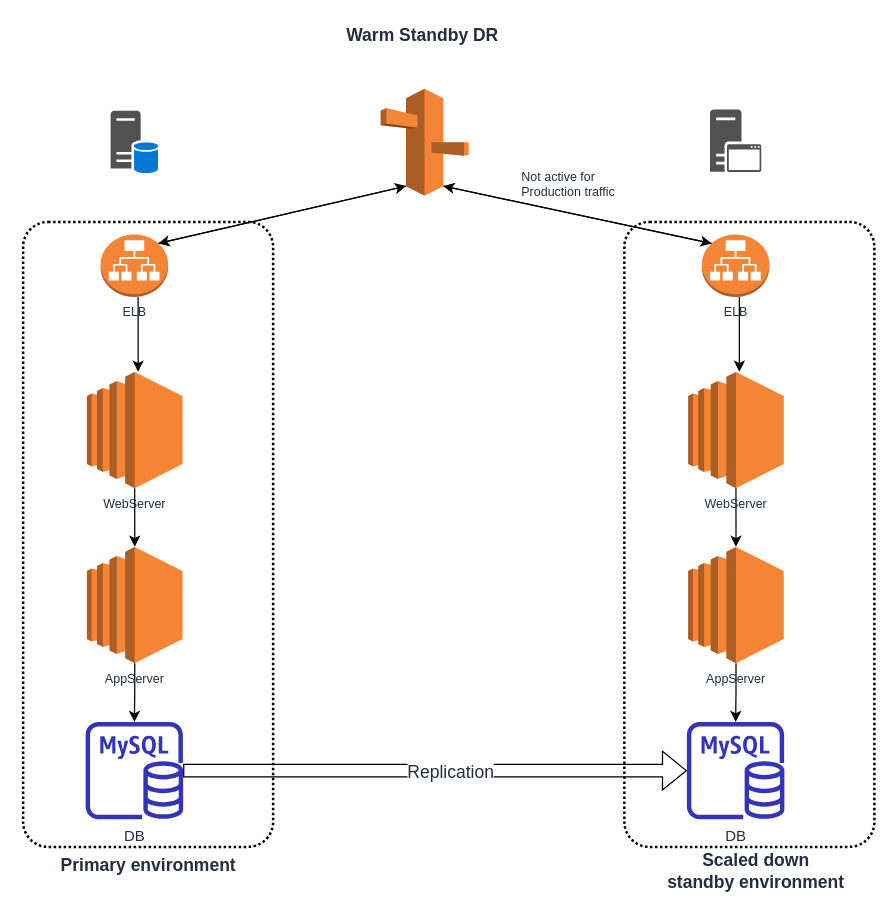
This 896x914 diagram has some shape labels left out. Here are the shapes that lost their labels. From the top down, the box of each, then its label:
(110, 110, 158, 172): Primary Region
(379, 88, 469, 196): Route 53
(709, 109, 761, 171): Secondary Region
